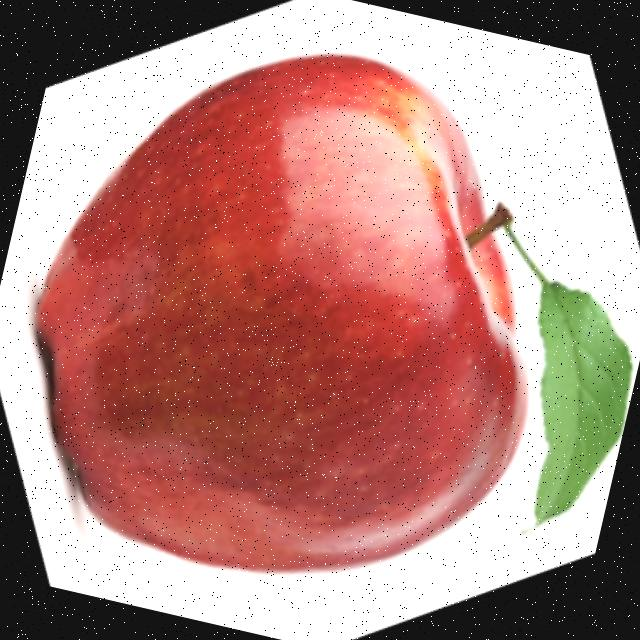Ripe: (0, 0, 604, 637)
